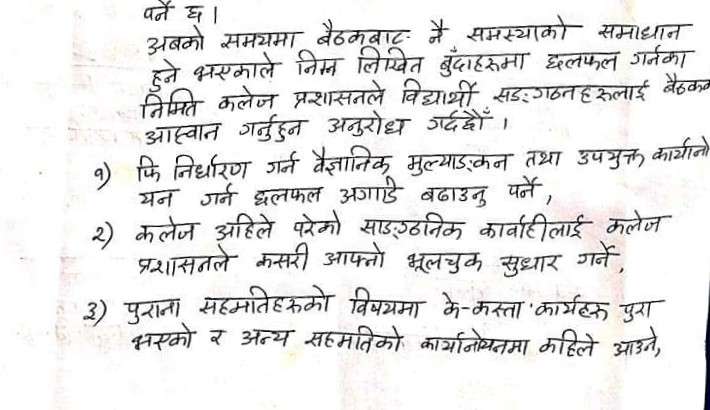text: (493, 78, 653, 104), (198, 285, 330, 315), (131, 247, 242, 279), (356, 210, 466, 241), (478, 211, 590, 241), (417, 328, 532, 357), (288, 79, 393, 110), (304, 323, 405, 355), (401, 147, 512, 175), (468, 15, 577, 43), (437, 287, 525, 321), (592, 12, 687, 42), (435, 47, 528, 77), (324, 109, 413, 140), (313, 18, 408, 46), (192, 52, 281, 81), (308, 146, 394, 175), (347, 285, 421, 318), (399, 79, 485, 107), (170, 151, 253, 180), (533, 293, 612, 323), (404, 248, 487, 275), (601, 202, 666, 236), (238, 112, 307, 144), (131, 212, 201, 243), (140, 121, 222, 147), (541, 48, 626, 73), (349, 48, 427, 75), (416, 182, 494, 209), (574, 144, 646, 173), (497, 248, 566, 278), (211, 211, 275, 243), (129, 324, 197, 354), (142, 24, 209, 54), (335, 176, 402, 206), (318, 241, 387, 270), (609, 325, 661, 362), (426, 107, 494, 135), (121, 292, 183, 322), (649, 133, 710, 163), (250, 184, 326, 208), (538, 328, 600, 357), (213, 82, 277, 110), (220, 28, 308, 48), (137, 91, 201, 118), (254, 244, 312, 273), (628, 44, 691, 69), (286, 211, 342, 238), (239, 325, 298, 350), (193, 180, 241, 210), (617, 298, 667, 325), (664, 71, 710, 99), (573, 244, 619, 272), (145, 58, 183, 90), (294, 49, 337, 75), (263, 148, 301, 176), (502, 174, 541, 201), (131, 154, 163, 185), (522, 146, 562, 170), (135, 186, 176, 209), (424, 12, 451, 45), (138, 1, 177, 23), (88, 219, 112, 249), (204, 323, 229, 349), (88, 159, 110, 188), (82, 295, 102, 325), (184, 2, 209, 23)
